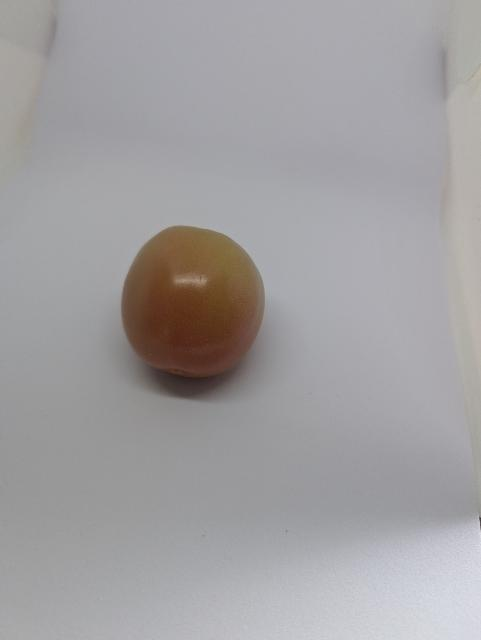turning: (116, 219, 273, 381)
